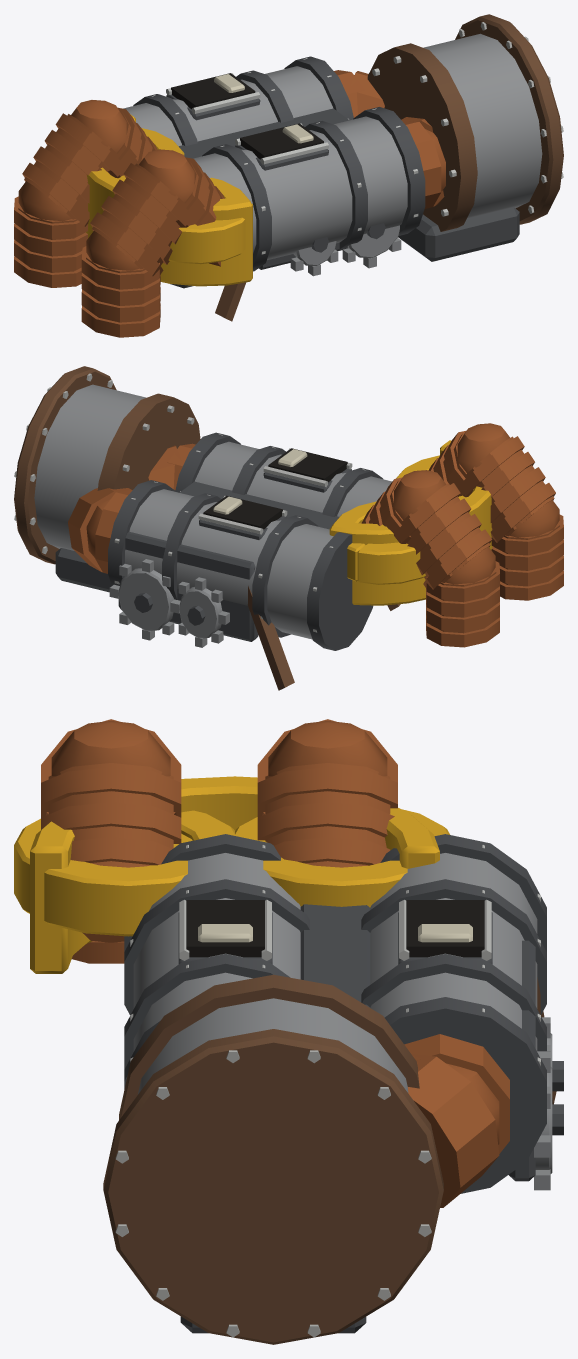
The model's file is offshore-pump-west.glb.
3 renders of one model, top to bottom at view 1: azimuth 30°, elevation 25°; view 2: azimuth 150°, elevation 25°; view 3: azimuth 270°, elevation 25°, orthographic. The views are drawn at different scales.
Visible parts, largest first — view 1: body; view 2: body; view 3: body, anim_bob_a, anim_bob_b.
Boxes of the visible parts, left/top/right/bottom form: body: left=14, top=14, right=563, bottom=337; body: left=14, top=366, right=563, bottom=690; body: left=14, top=719, right=563, bottom=1344; anim_bob_a: left=198, top=924, right=252, bottom=942; anim_bob_b: left=418, top=924, right=472, bottom=942.
Bounding box in the file's own units: 2.27 × 0.91 × 1.42.
